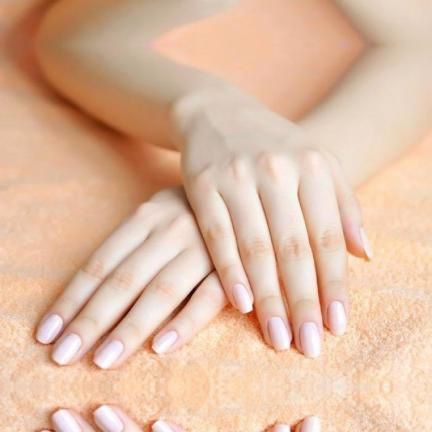Nail: (52, 333, 82, 364), (93, 339, 123, 369), (93, 404, 123, 432), (36, 313, 63, 343), (268, 315, 290, 349), (300, 321, 321, 356), (52, 408, 82, 432), (328, 300, 346, 335), (152, 330, 179, 353), (233, 283, 252, 313), (361, 226, 373, 257), (301, 416, 321, 432), (152, 420, 176, 432), (272, 423, 290, 432), (38, 429, 52, 432)
